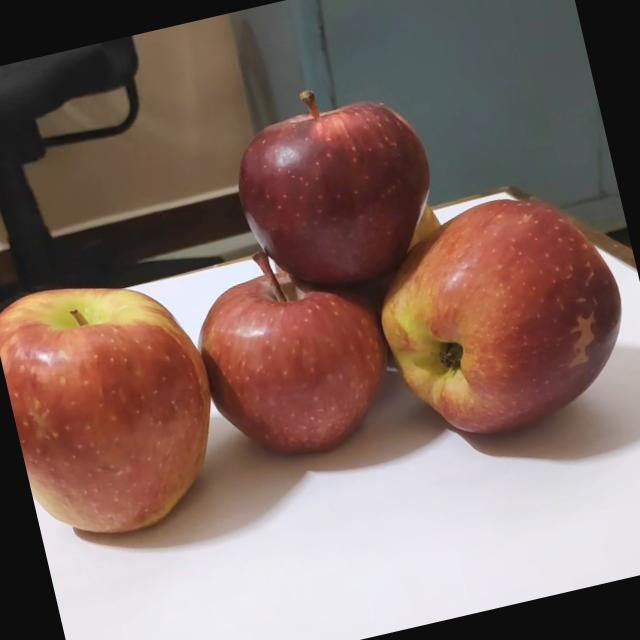apple: (349, 169, 640, 459), (0, 251, 236, 556), (204, 54, 452, 306), (172, 224, 408, 473), (378, 184, 450, 266)
